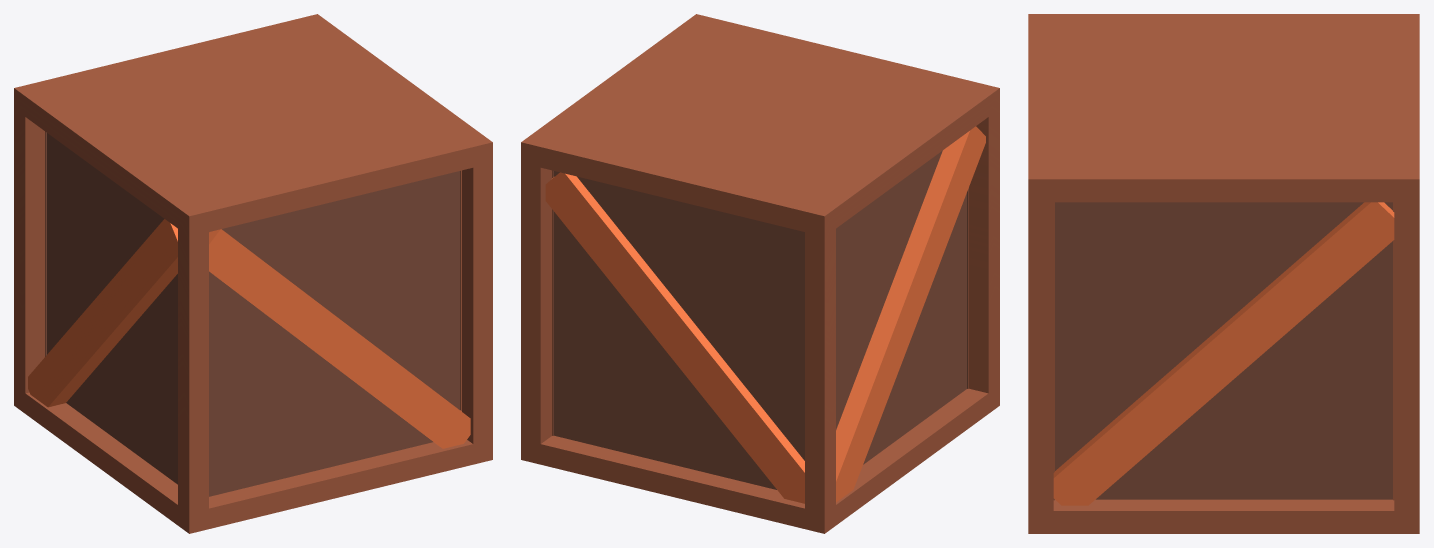
The model's file is crate.fbx.
3 views of the same model, side by side, from view 1: azimuth 30°, elevation 25°; view 2: azimuth 150°, elevation 25°; view 3: azimuth 270°, elevation 25° (orthographic). The views are drawn at different scales.
Visible parts, largest first — view 1: Crate; view 2: Crate; view 3: Crate.
Part boxes in pixels (x1,y1,x2,y2): Crate: (14,14,492,533); Crate: (521,14,999,533); Crate: (1028,14,1419,533).
Size of the model in its own units: 200 by 200 by 200.
